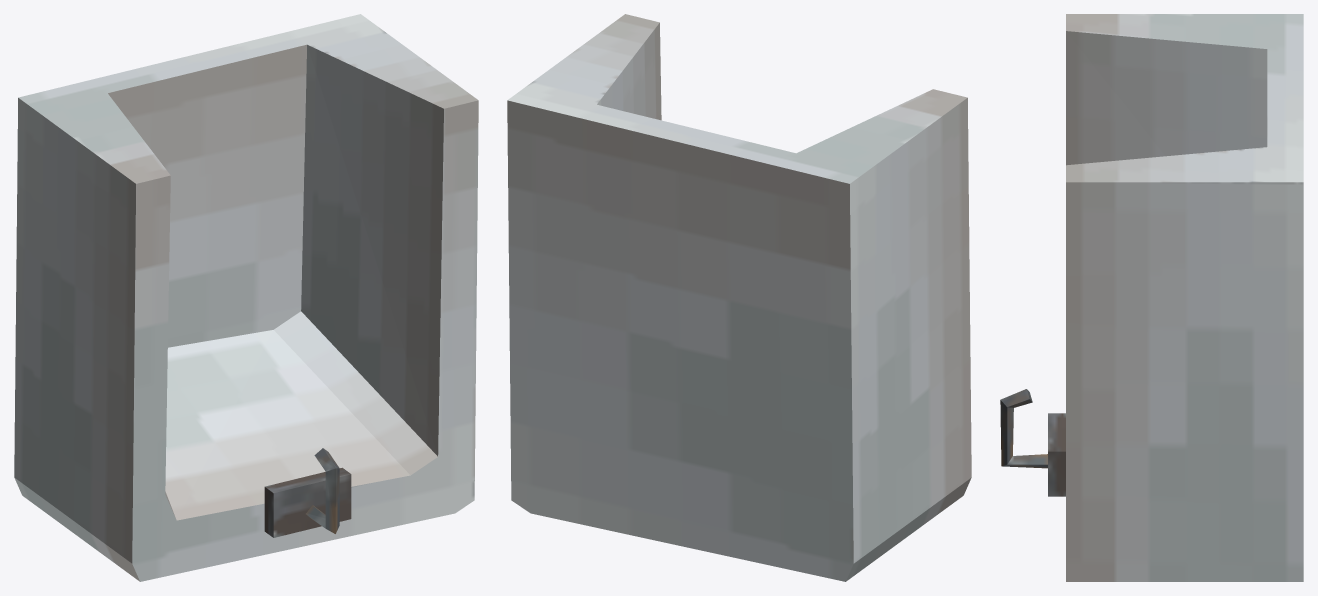
The model's file is pz_house_bath_head.obj.
3 renders of one model, left to right at view 1: azimuth 30°, elevation 25°; view 2: azimuth 150°, elevation 25°; view 3: azimuth 270°, elevation 25°, orthographic.
Visible parts, largest first — view 1: pz_house_bath_head_|_1_parte_1, pz_house_bath_head_|_2_parte_2, pz_house_bath_head_|_3_parte_3; view 2: pz_house_bath_head_|_1_parte_1; view 3: pz_house_bath_head_|_1_parte_1, pz_house_bath_head_|_3_parte_3, pz_house_bath_head_|_2_parte_2.
Boxes of the visible parts, x1,y1,x2,y2 form: pz_house_bath_head_|_1_parte_1: (14,14,478,581); pz_house_bath_head_|_2_parte_2: (264,467,351,537); pz_house_bath_head_|_3_parte_3: (306,448,339,533); pz_house_bath_head_|_1_parte_1: (507,14,971,581); pz_house_bath_head_|_1_parte_1: (1066,14,1303,581); pz_house_bath_head_|_3_parte_3: (1000,389,1047,468); pz_house_bath_head_|_2_parte_2: (1048,413,1065,496).
Bounding box in the file's own units: 0.89 × 1 × 0.6699.
1 material, 1 textured.
